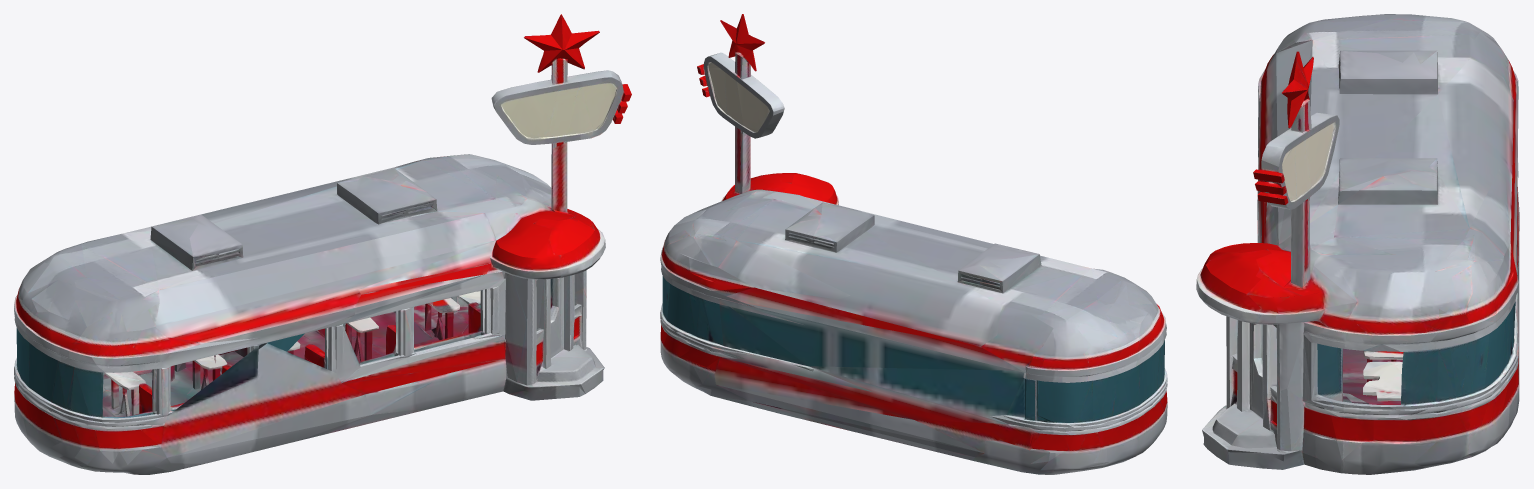
Rendered from diner.glb.
3 views of the same model, side by side, from view 1: azimuth 30°, elevation 25°; view 2: azimuth 150°, elevation 25°; view 3: azimuth 270°, elevation 25° (orthographic). The views are drawn at different scales.
Size of the model in its own units: 1.9 by 1.15 by 0.8279.
Materials: 1 (1 with a texture image).
